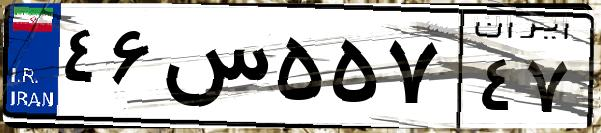4: (57, 26, 110, 100), (475, 38, 525, 113)
5: (270, 28, 330, 110), (330, 28, 385, 110)
6: (110, 28, 158, 98)
7: (385, 28, 445, 110), (525, 38, 570, 115)
س: (158, 20, 270, 120)
